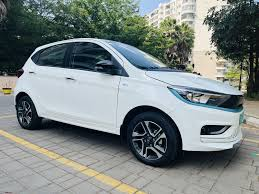Tiago: (11, 35, 247, 166)
